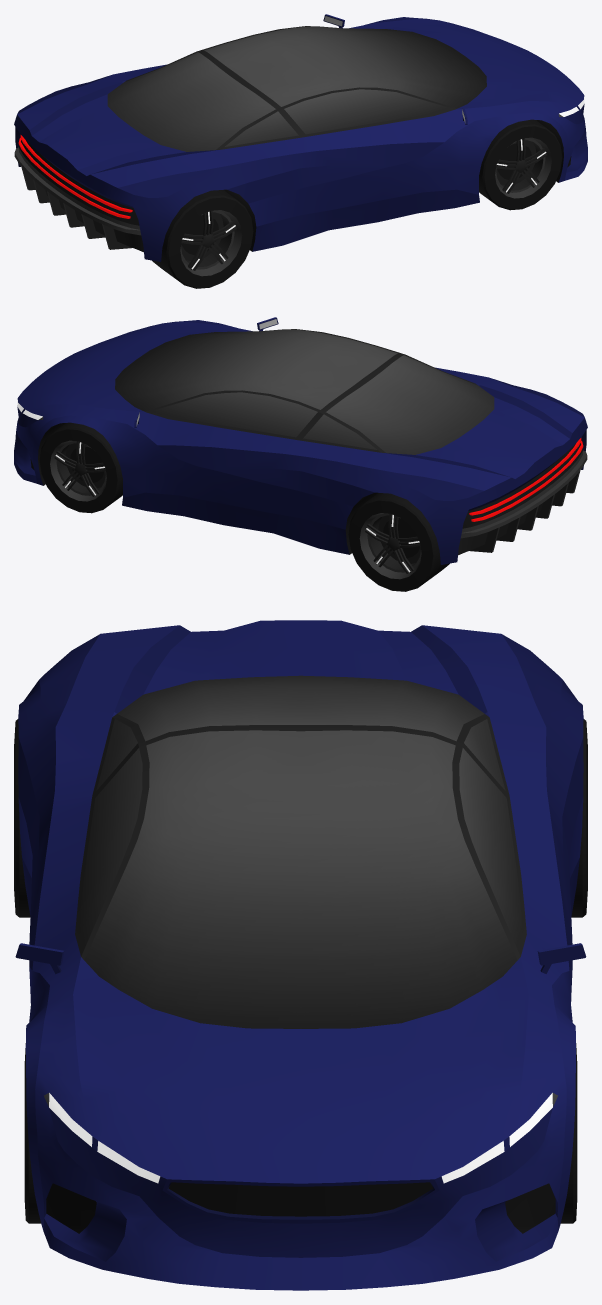
The model's file is Car_121.glb.
3 renders of one model, top to bottom at view 1: azimuth 30°, elevation 25°; view 2: azimuth 150°, elevation 25°; view 3: azimuth 270°, elevation 25°, orthographic. The views are drawn at different scales.
Visible parts, largest first — view 1: Car_121, wheel_3_Car_121_Wheel_2R, wheel_1_Car_121_Wheel_1R; view 2: Car_121, wheel_2_Car_121_Wheel_2L, wheel_0_Car_121_Wheel_1L; view 3: Car_121, wheel_2_Car_121_Wheel_2L, wheel_3_Car_121_Wheel_2R, wheel_0_Car_121_Wheel_1L, wheel_1_Car_121_Wheel_1R.
Boxes of the visible parts, x1,y1,x2,y2 form: Car_121: (14,14,587,261); wheel_3_Car_121_Wheel_2R: (152,190,253,288); wheel_1_Car_121_Wheel_1R: (479,119,562,210); Car_121: (14,317,587,564); wheel_2_Car_121_Wheel_2L: (348,493,449,591); wheel_0_Car_121_Wheel_1L: (39,422,122,513); Car_121: (15,620,586,1290); wheel_2_Car_121_Wheel_2L: (571,719,587,917); wheel_3_Car_121_Wheel_2R: (14,719,30,917); wheel_0_Car_121_Wheel_1L: (560,1043,577,1223); wheel_1_Car_121_Wheel_1R: (24,1043,41,1223).
Bounding box in the file's own units: 4.51 × 1.18 × 2.21.
Materials: 3 (3 with a texture image).
